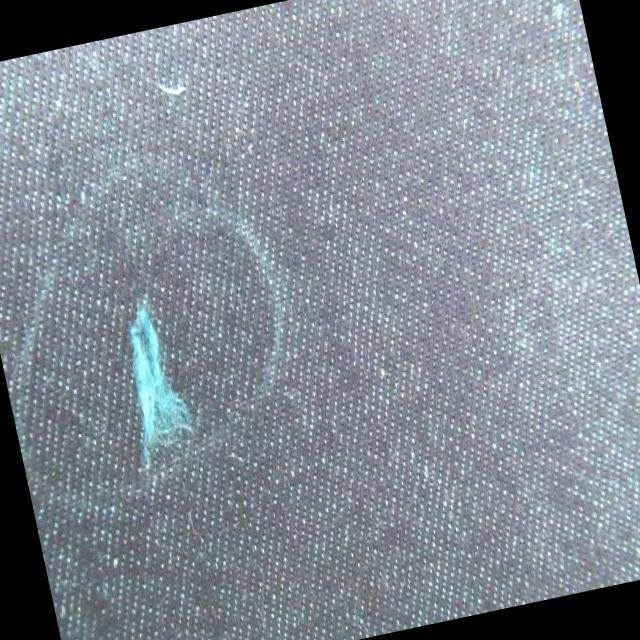Stain: (0, 254, 119, 543), (212, 204, 311, 408)
Thread: (108, 290, 202, 467), (150, 72, 190, 100)
